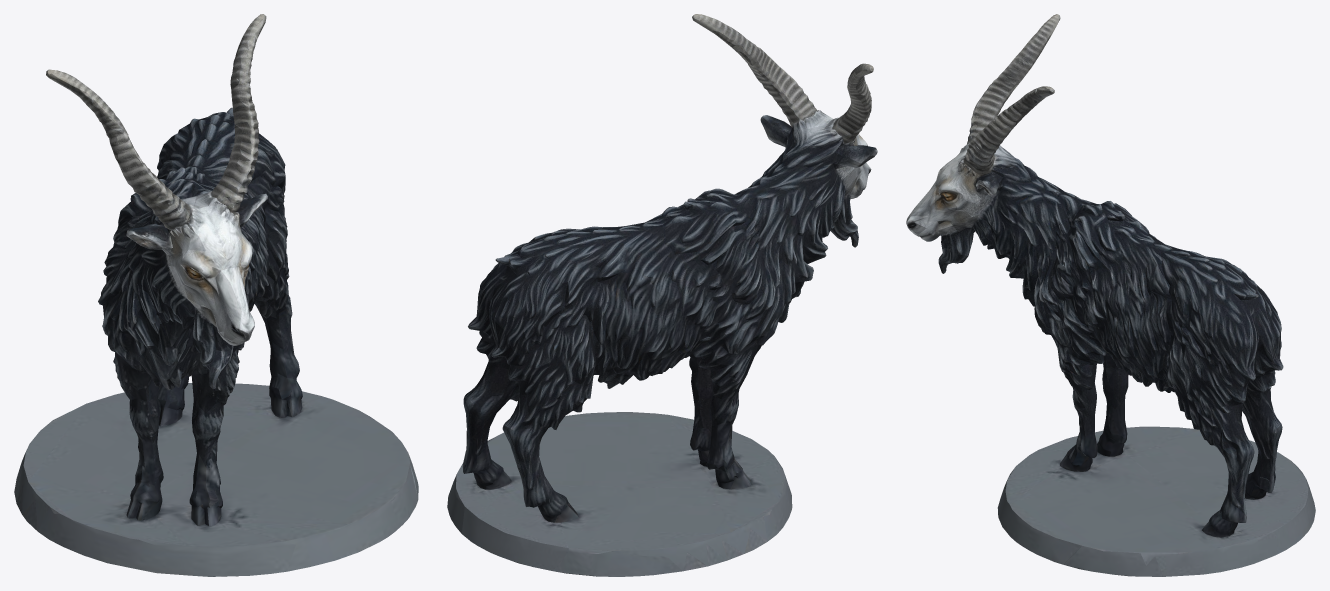
Rendered from yagi.glb.
3 views of the same model, side by side, from view 1: azimuth 30°, elevation 25°; view 2: azimuth 150°, elevation 25°; view 3: azimuth 270°, elevation 25° (orthographic). The views are drawn at different scales.
Parts seen in each view (by area): view 1: output_unwrapped; view 2: output_unwrapped; view 3: output_unwrapped.
Boxes of the visible parts, x1,y1,x2,y2 form: output_unwrapped: (14, 14, 418, 576); output_unwrapped: (447, 14, 877, 576); output_unwrapped: (906, 14, 1315, 576).
Size of the model in its own units: 1.53 by 1.9 by 1.7.
Materials: 1 (1 with a texture image).
